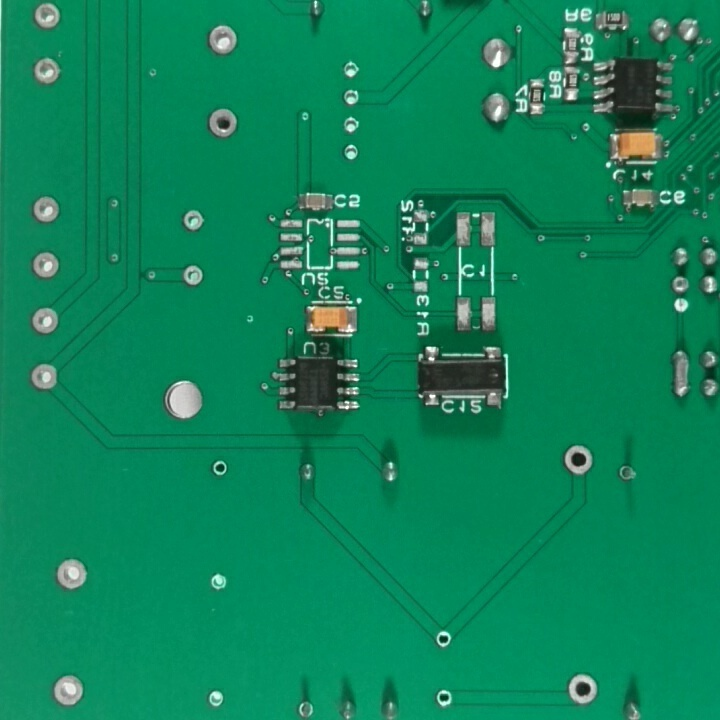F: (52, 555, 93, 597), (204, 106, 242, 144), (52, 671, 87, 712), (566, 669, 602, 707), (205, 23, 240, 62), (27, 361, 64, 395), (565, 440, 598, 478), (30, 55, 68, 87), (29, 192, 64, 226), (29, 303, 61, 340), (30, 250, 65, 282), (30, 1, 66, 32), (181, 209, 210, 235), (669, 272, 693, 300), (207, 569, 229, 598), (206, 686, 230, 712), (619, 459, 640, 488), (181, 263, 206, 287), (293, 697, 318, 720), (340, 86, 364, 109), (433, 686, 455, 710), (340, 59, 362, 83), (209, 458, 230, 480), (434, 628, 455, 649), (341, 115, 363, 135), (344, 141, 359, 163)
P: (668, 344, 693, 404)
